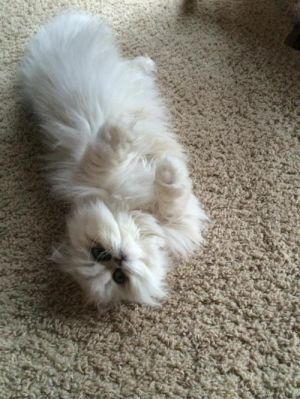persian: (50, 198, 171, 320)
